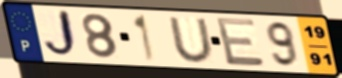1: (132, 12, 157, 64)
8: (79, 12, 120, 60)
9: (264, 20, 301, 69)
E: (213, 15, 268, 67)
J: (41, 8, 81, 61)
U: (166, 16, 217, 65)
